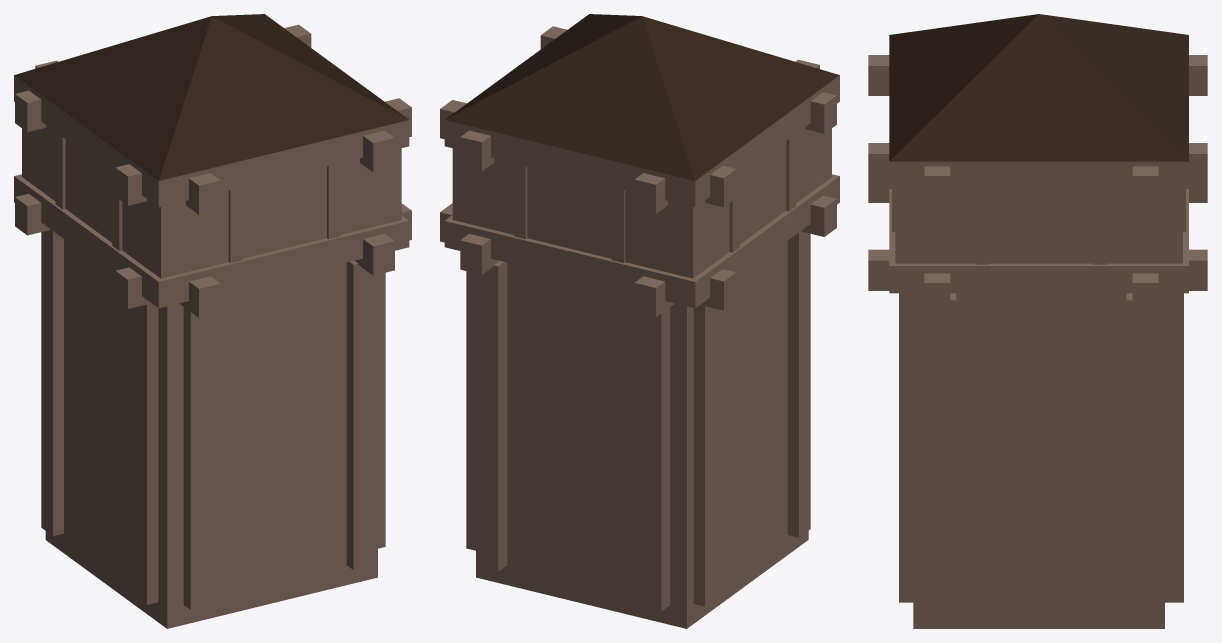
Rendered from Tower02.fbx.
3 views of the same model, side by side, from view 1: azimuth 30°, elevation 25°; view 2: azimuth 150°, elevation 25°; view 3: azimuth 270°, elevation 25° (orthographic). The views are drawn at different scales.
Visible parts, largest first — view 1: Tower1; view 2: Tower1; view 3: Tower1.
Boxes of the visible parts, <box> form: Tower1: <box>14,14,411,628</box>; Tower1: <box>440,14,839,628</box>; Tower1: <box>868,14,1207,628</box>.
Bounding box in the file's own units: 0.3521 × 0.6432 × 0.3521.
